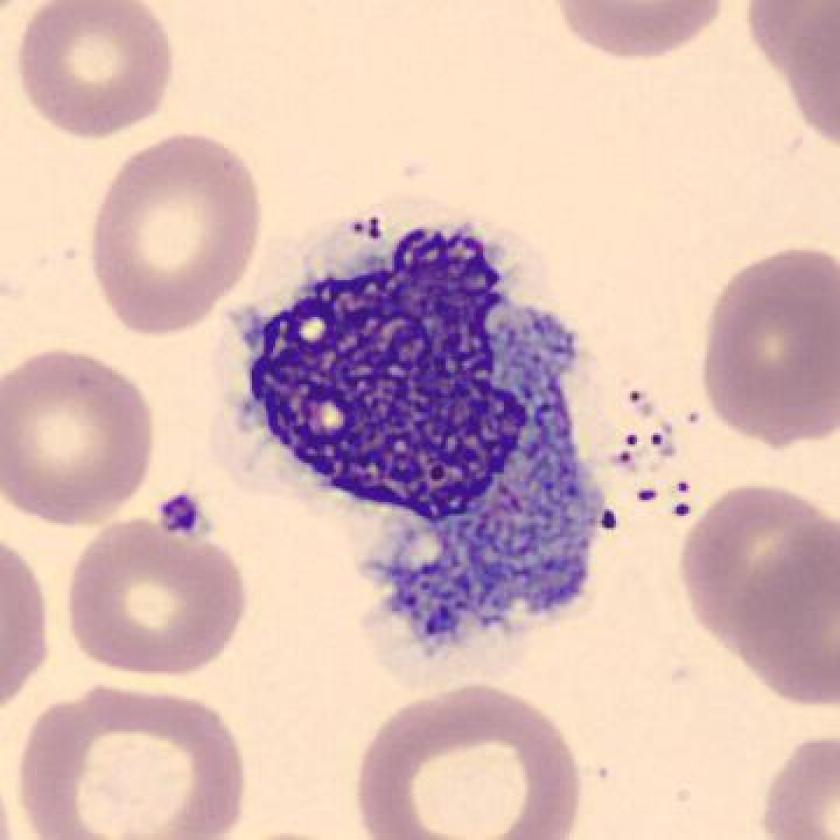monocyte: (199, 193, 643, 672)
